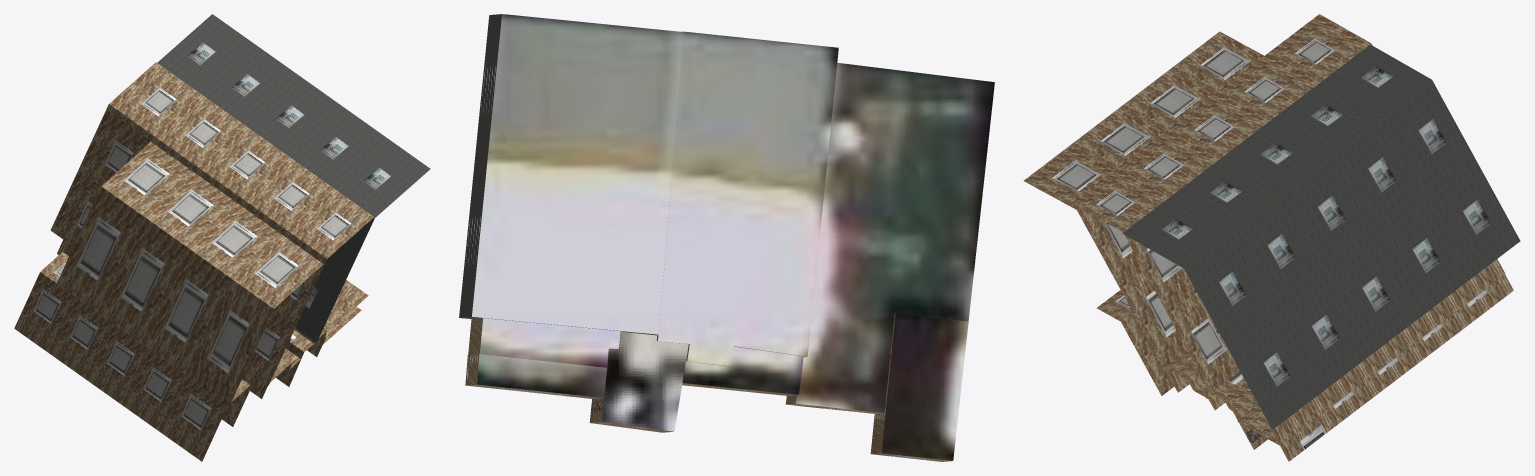
3 renders of one model, left to right at view 1: azimuth 30°, elevation 25°; view 2: azimuth 150°, elevation 25°; view 3: azimuth 270°, elevation 25°, orthographic. The views are drawn at different scales.
Bounding box in the file's own units: 25.54 × 22.85 × 27.04.
26 materials, 26 textured.
